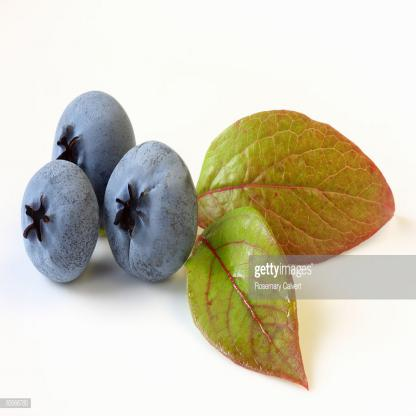blueberry leaf: (193, 95, 405, 277), (184, 213, 320, 398)
